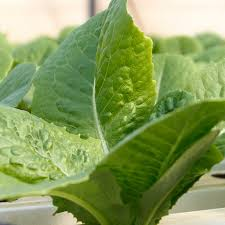Lettuce: (22, 21, 219, 225)
